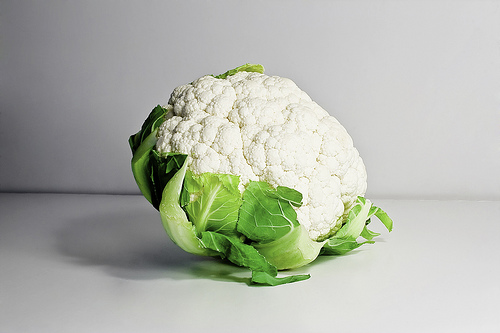cauliflower: (127, 62, 395, 289)
